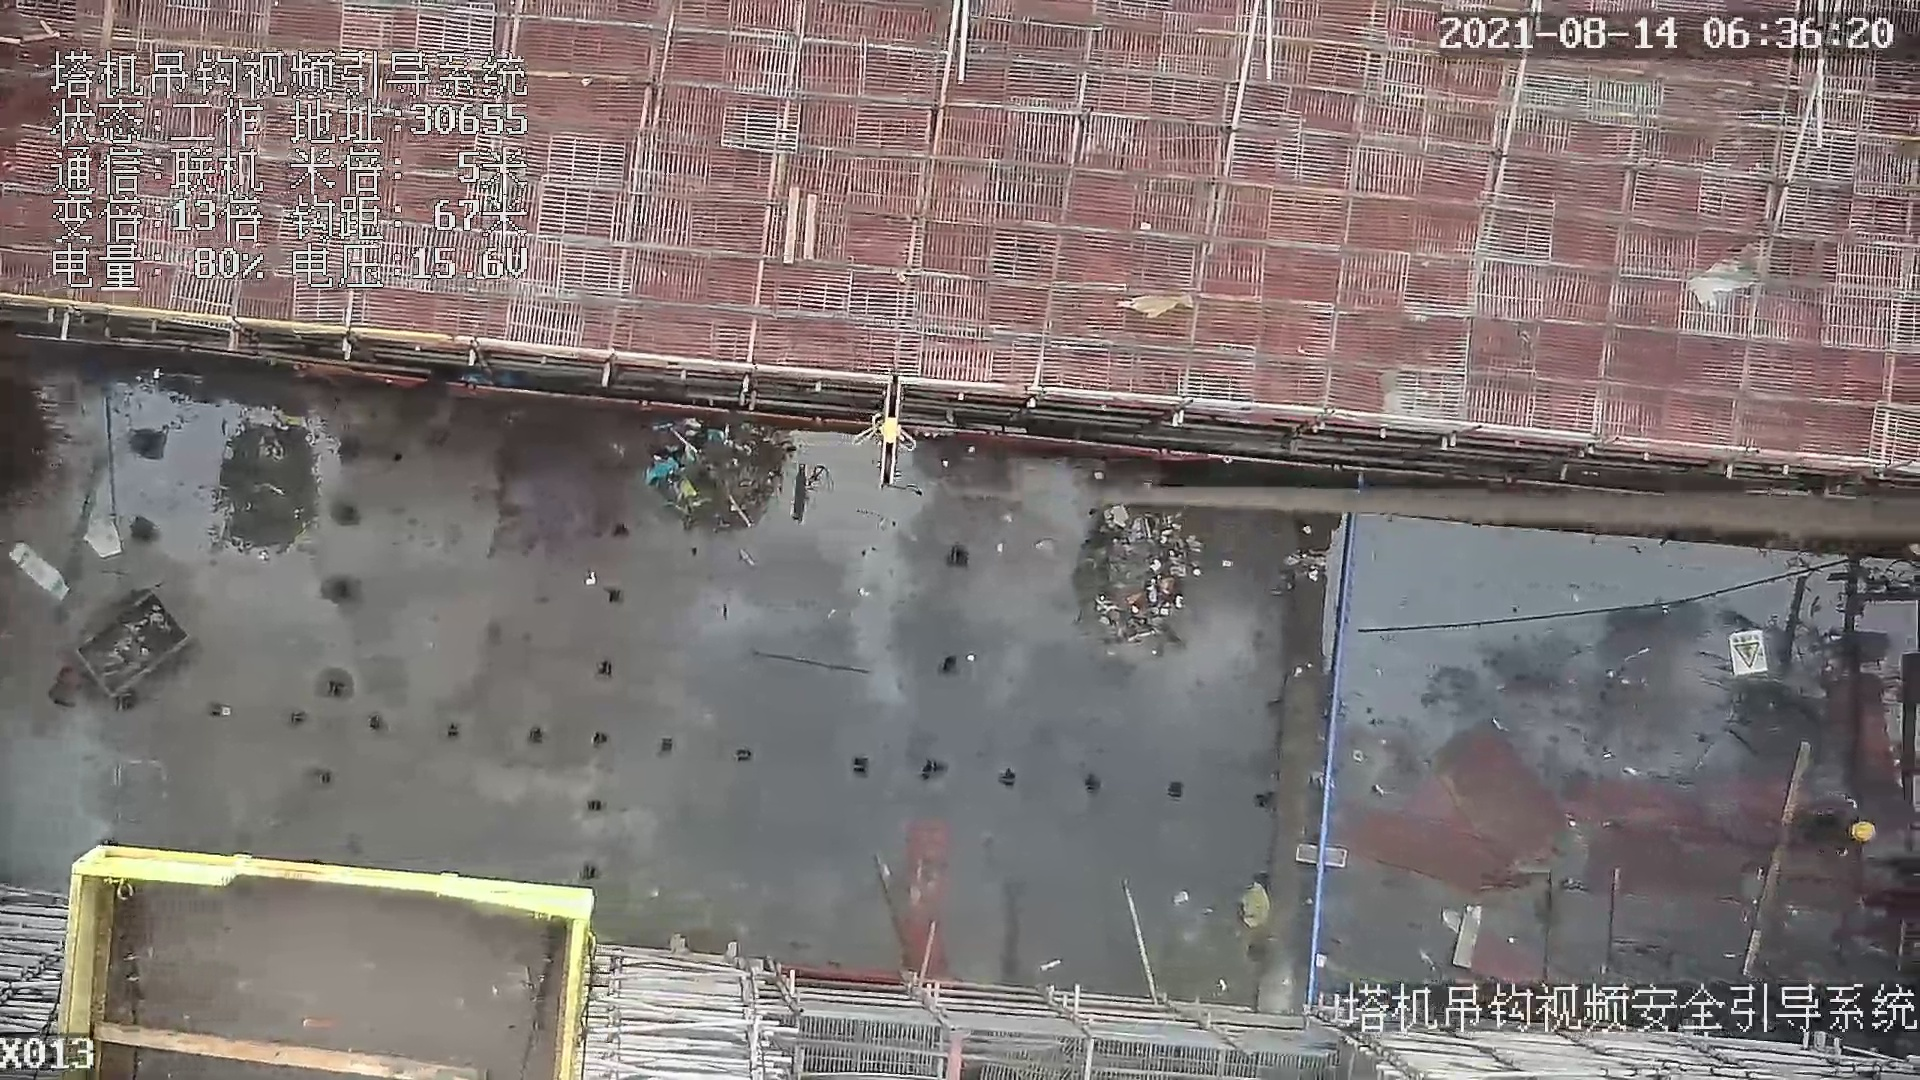helmet: (1855, 815, 1877, 849)
hook: (873, 376, 918, 492)
hopper: (70, 594, 203, 706)
person: (1783, 792, 1887, 862)
